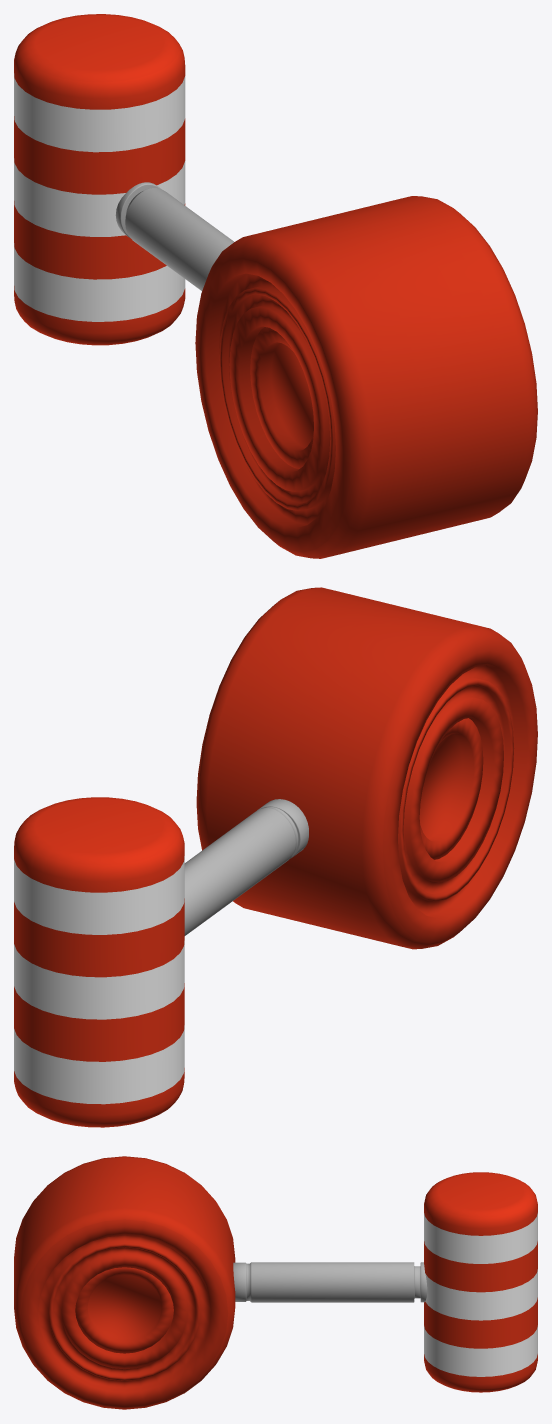
The model's file is red-hammer.glb.
3 views of the same model, one above another, from view 1: azimuth 30°, elevation 25°; view 2: azimuth 150°, elevation 25°; view 3: azimuth 270°, elevation 25° (orthographic). The views are drawn at different scales.
Parts seen in each view (by area): view 1: Hammer_large_red.001; view 2: Hammer_large_red.001; view 3: Hammer_large_red.001.
Part boxes in pixels (left/top/right/bottom): Hammer_large_red.001: left=14, top=14, right=537, bottom=558; Hammer_large_red.001: left=14, top=587, right=537, bottom=1127; Hammer_large_red.001: left=14, top=1156, right=537, bottom=1409.
Size of the model in its own units: 1.38 by 2.08 by 4.92.
1 material, 1 textured.
